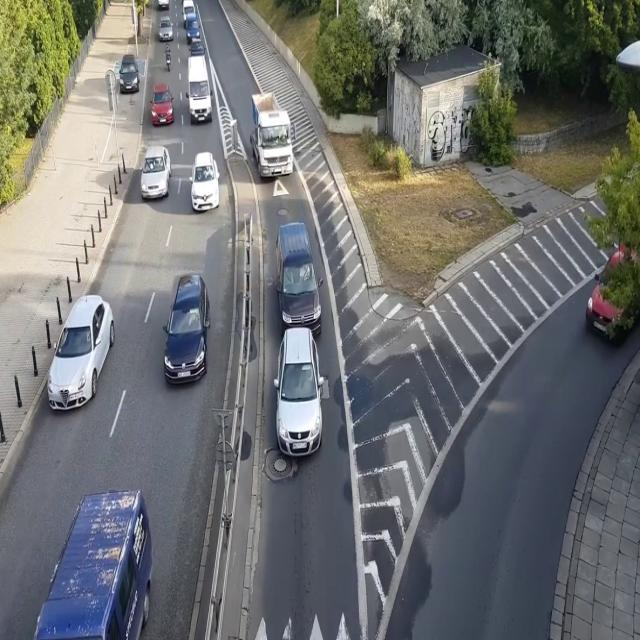car: (45, 291, 115, 414), (273, 326, 324, 457), (162, 275, 211, 387), (139, 142, 173, 201), (188, 152, 221, 212), (150, 82, 175, 128), (118, 52, 140, 94), (186, 38, 209, 60), (158, 17, 172, 40)
motorcycle: (164, 42, 174, 74)
truck: (248, 91, 295, 179)
van: (30, 489, 154, 640), (274, 222, 325, 345), (584, 235, 640, 346), (186, 55, 214, 126), (180, 0, 197, 28), (185, 12, 200, 42), (156, 0, 170, 11)
